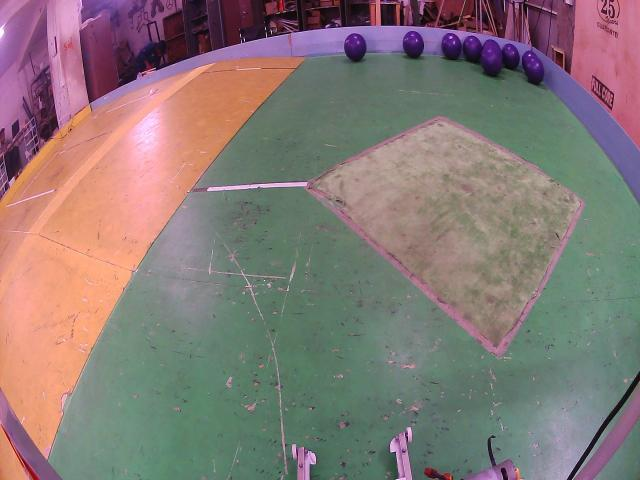jambhalya: (480, 40, 502, 77), (344, 33, 366, 62), (402, 32, 424, 58), (441, 33, 461, 60), (462, 35, 482, 62), (525, 58, 544, 85), (502, 43, 520, 70), (521, 50, 536, 68)
